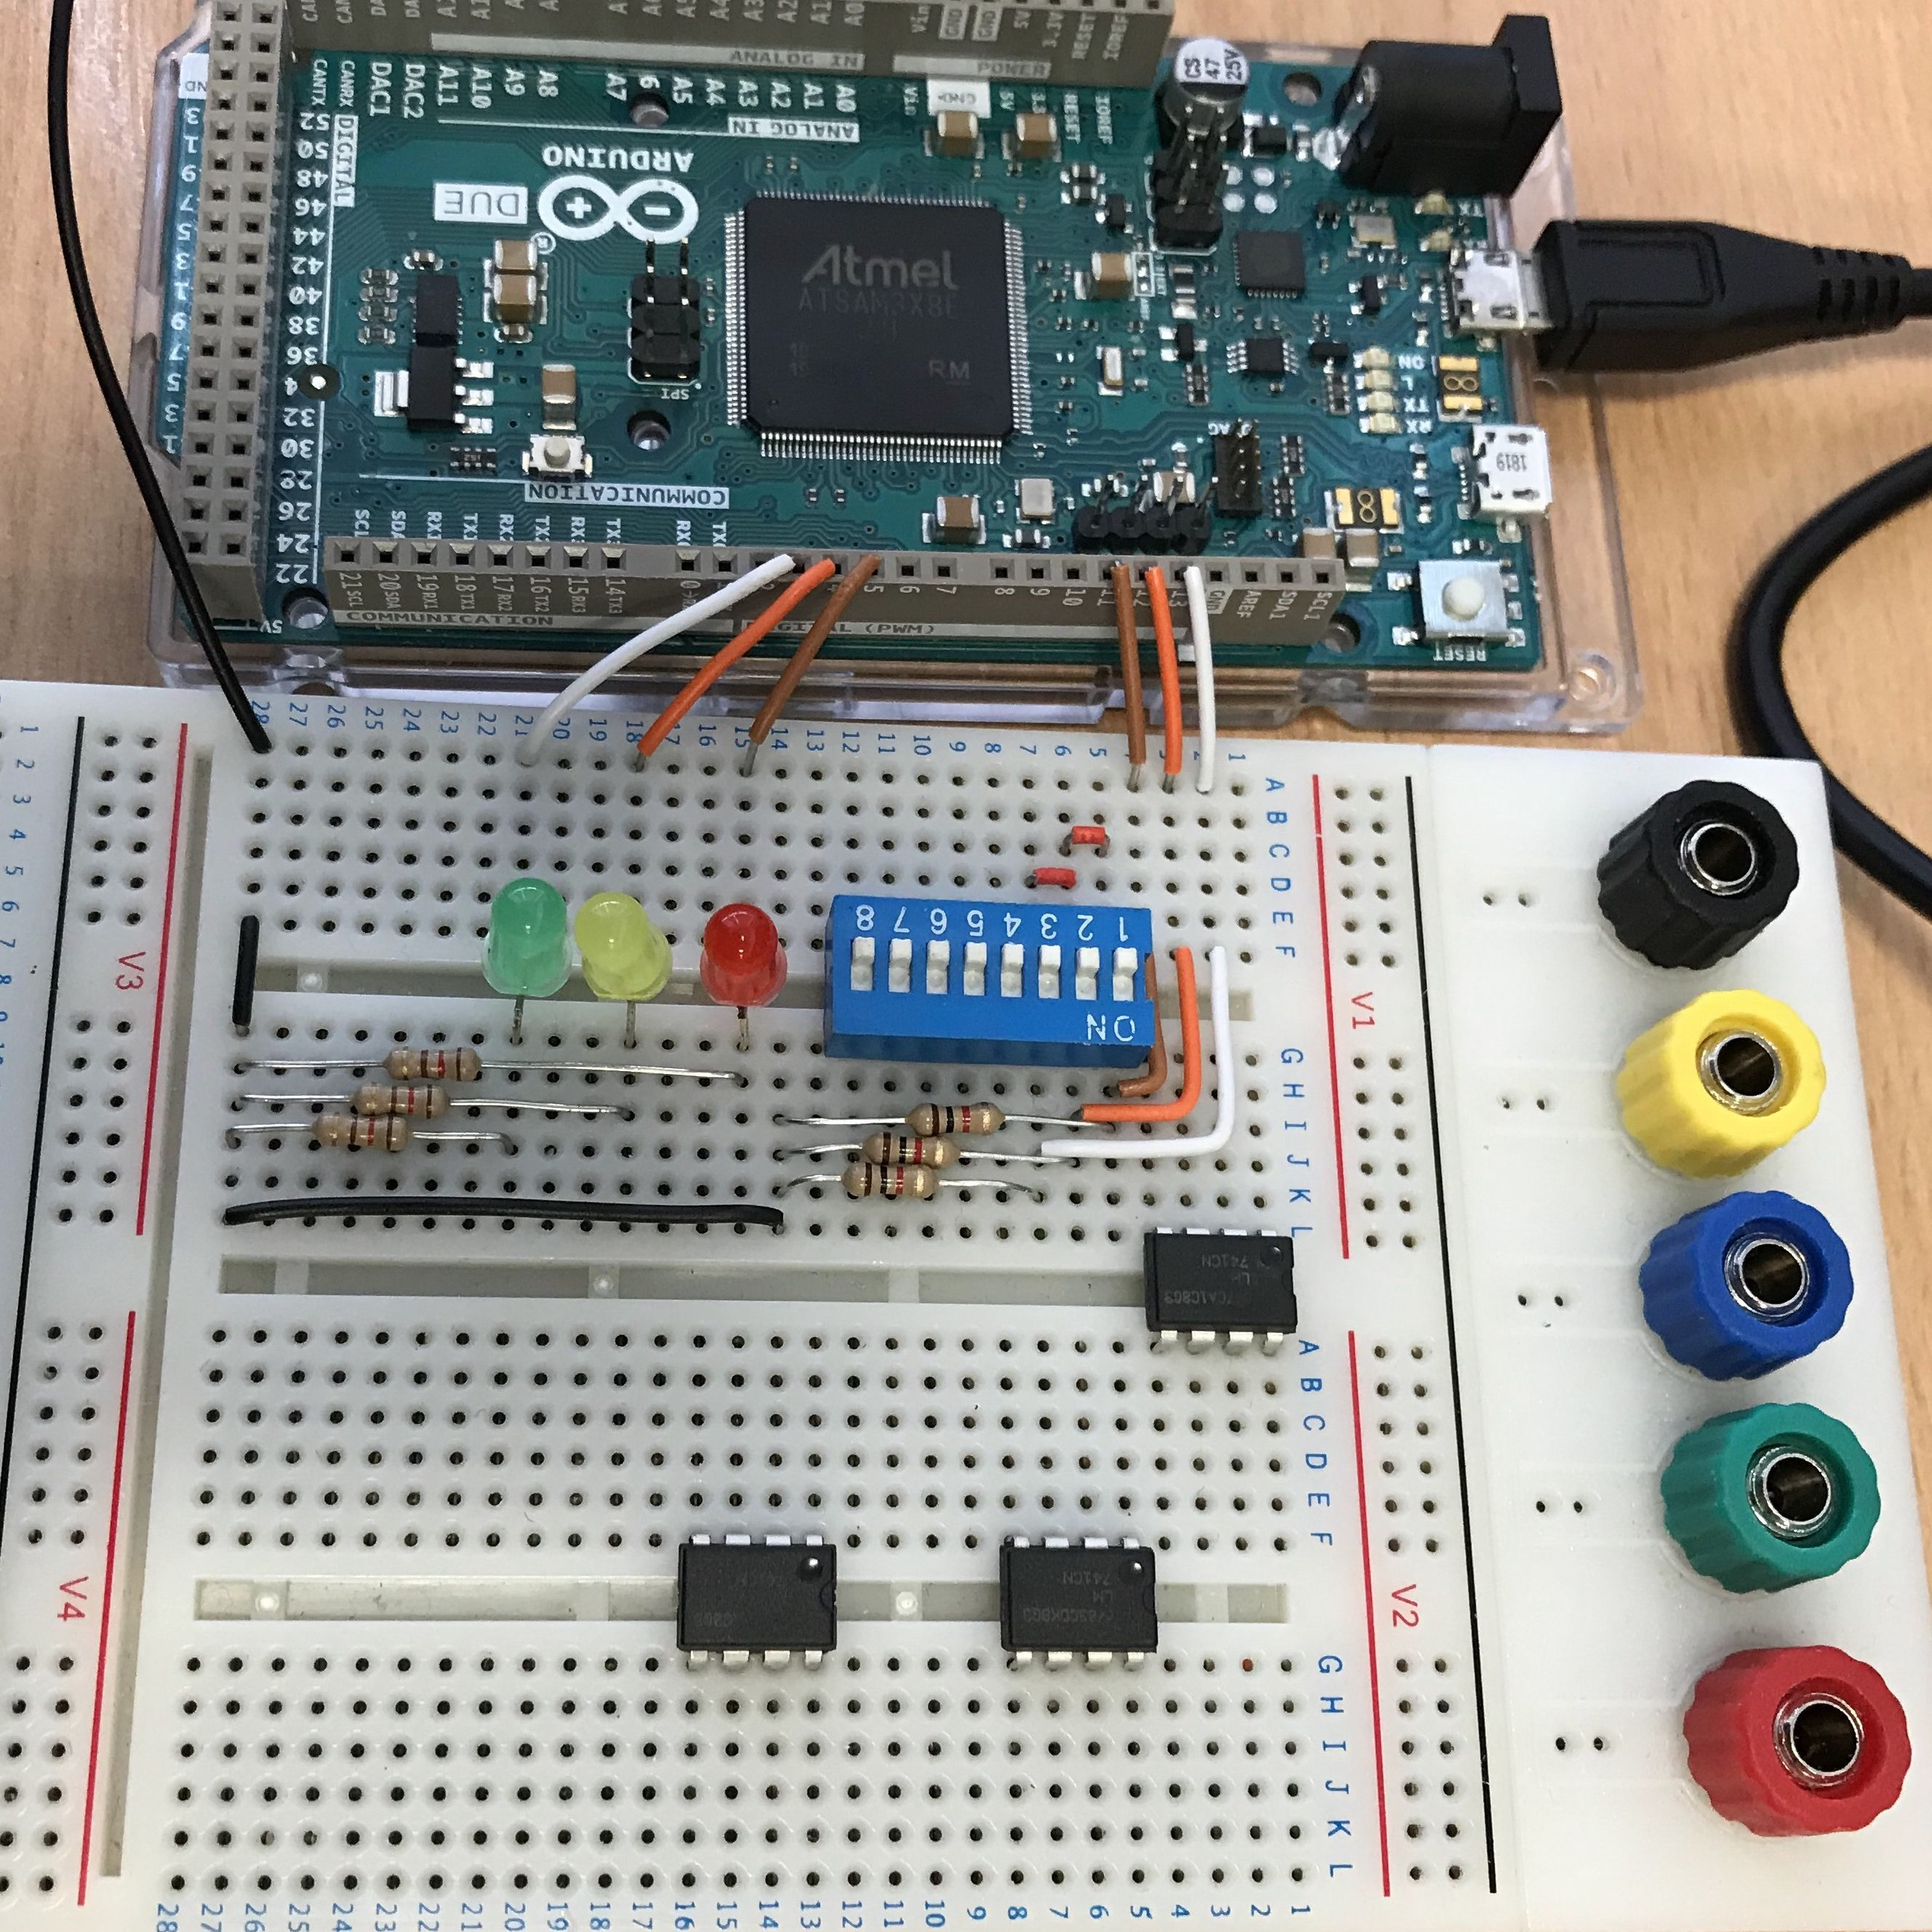LED: (566, 886, 679, 1010), (472, 878, 571, 1007), (690, 895, 793, 1017)
Resistor: (341, 1072, 464, 1120), (297, 1111, 425, 1152), (851, 1129, 970, 1171), (377, 1044, 495, 1086), (830, 1166, 948, 1205), (895, 1099, 1017, 1132)
